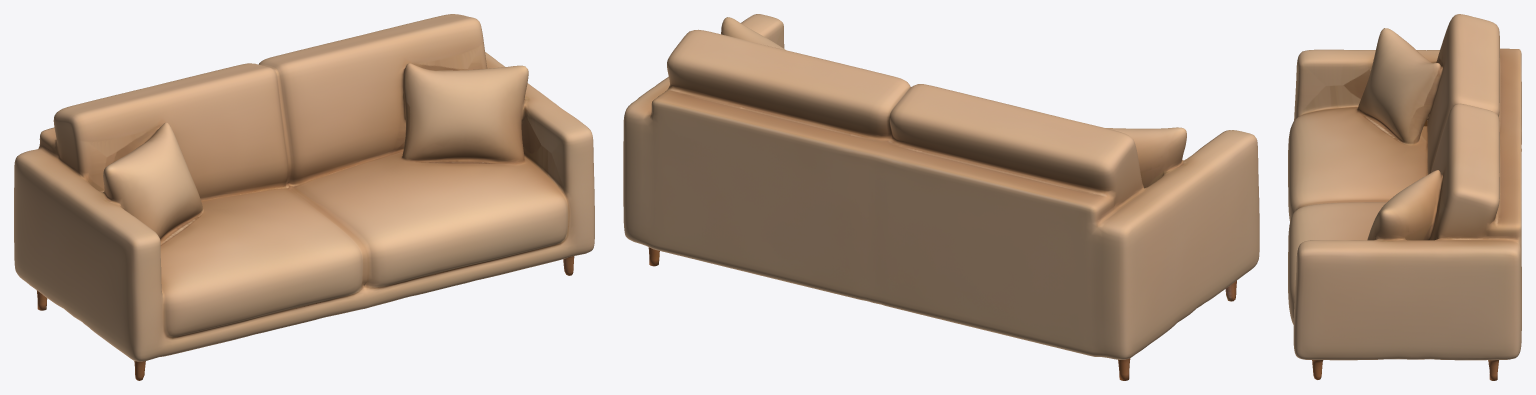
3 renders of one model, left to right at view 1: azimuth 30°, elevation 25°; view 2: azimuth 150°, elevation 25°; view 3: azimuth 270°, elevation 25°, orthographic. The views are drawn at different scales.
Visible parts, largest first — view 1: model; view 2: model; view 3: model.
Part boxes in pixels (x1=…): model: x1=14, y1=14, x2=594, y2=380; model: x1=623, y1=14, x2=1259, y2=380; model: x1=1288, y1=14, x2=1521, y2=380.
Bounding box in the file's own units: 1.91 × 0.8001 × 0.9175.
1 material, 1 textured.
